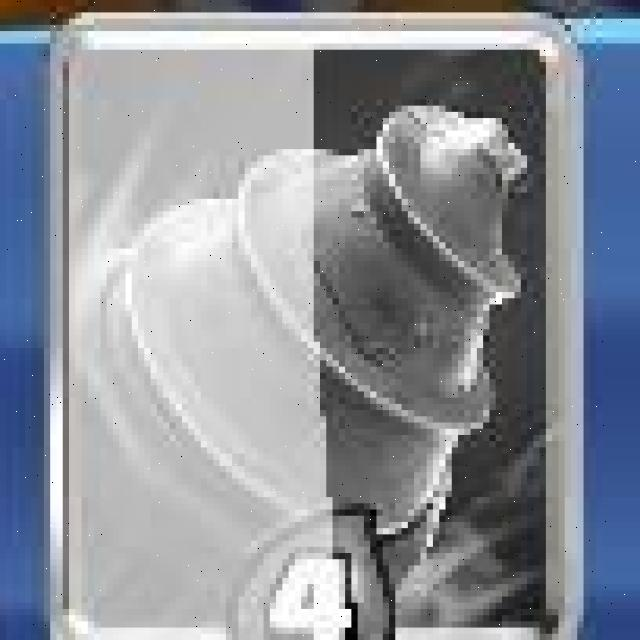Goblin_Drill: (49, 12, 585, 640)
